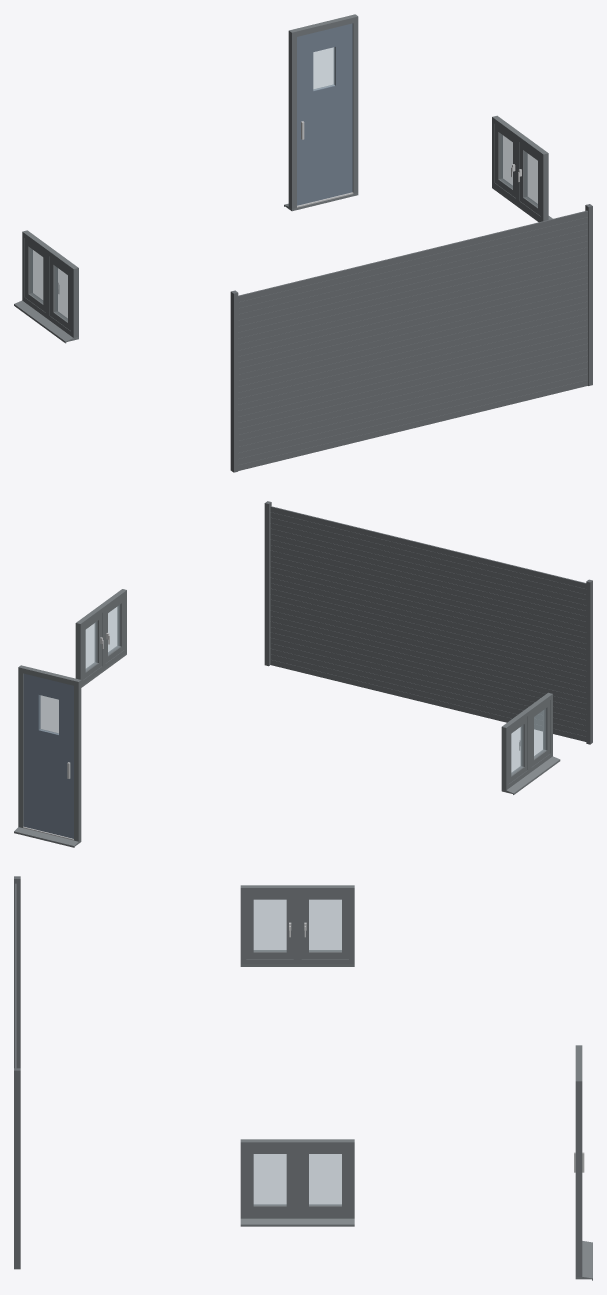
The model's file is stage-6.glb.
3 views of the same model, one above another, from view 1: azimuth 30°, elevation 25°; view 2: azimuth 150°, elevation 25°; view 3: azimuth 270°, elevation 25° (orthographic). The views are drawn at different scales.
Visible parts, largest first — view 1: Geom3D (×5); view 2: Geom3D (×5); view 3: Geom3D (×4).
Boxes of the visible parts, x1,y1,x2,y2 form: Geom3D (×5): (14,14,592,472); Geom3D (×5): (14,501,592,847); Geom3D (×4): (14,876,592,1280).
Size of the model in its own units: 6.57 by 2.3 by 6.04.
